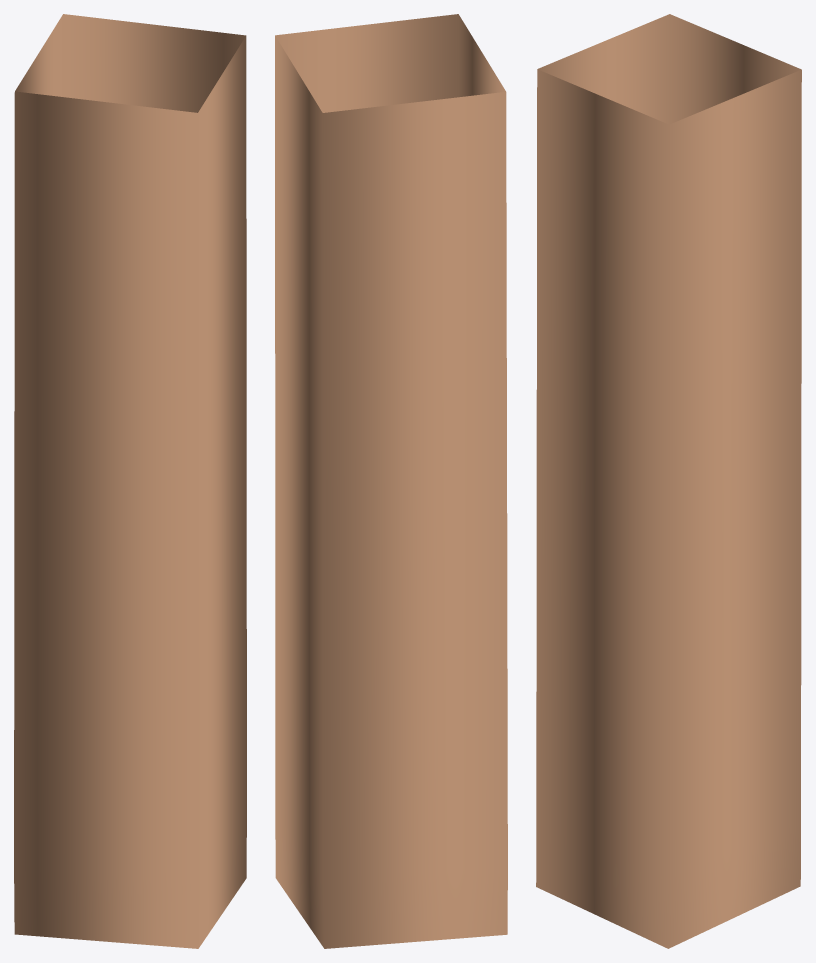
The model's file is Humerus.obj.
The picture shows the model from 3 angles, left to right: view 1: azimuth 30°, elevation 25°; view 2: azimuth 150°, elevation 25°; view 3: azimuth 270°, elevation 25°; orthographic projection. The views are drawn at different scales.
Bounding box in the file's own units: 0.3857 × 1.33 × 0.3897.
1 material, 1 textured.
